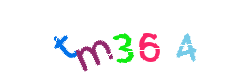3: (79, 0, 159, 80)
4: (123, 0, 203, 80)
6: (85, 0, 165, 80)
M: (76, 0, 156, 80)
T: (24, 0, 104, 80)
